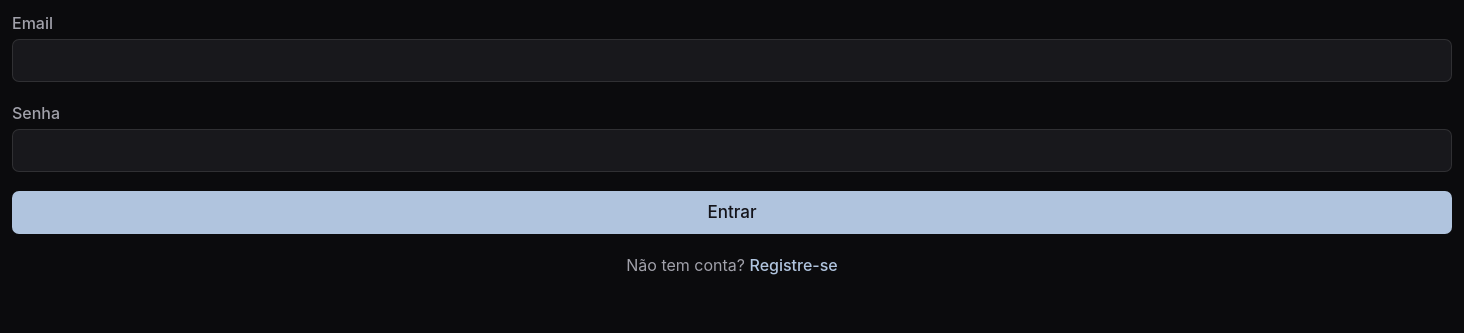
Test: LoginPage › mostra erro de credencial inválida devolvido pela API
In the field labelled "Email": (732, 61) [12, 39, 1452, 82], type "sant@example.com"
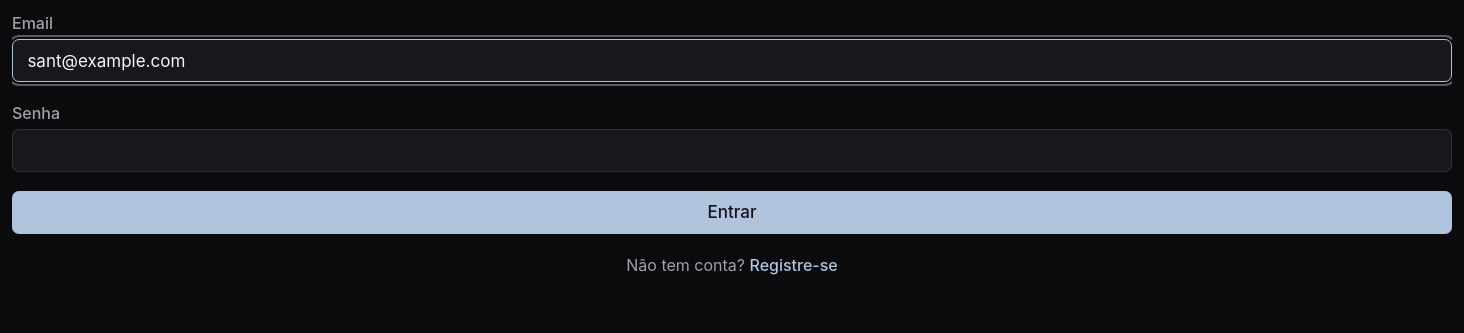
In the password field labelled "Senha": (732, 150) [12, 129, 1452, 172], type "senha-errada"
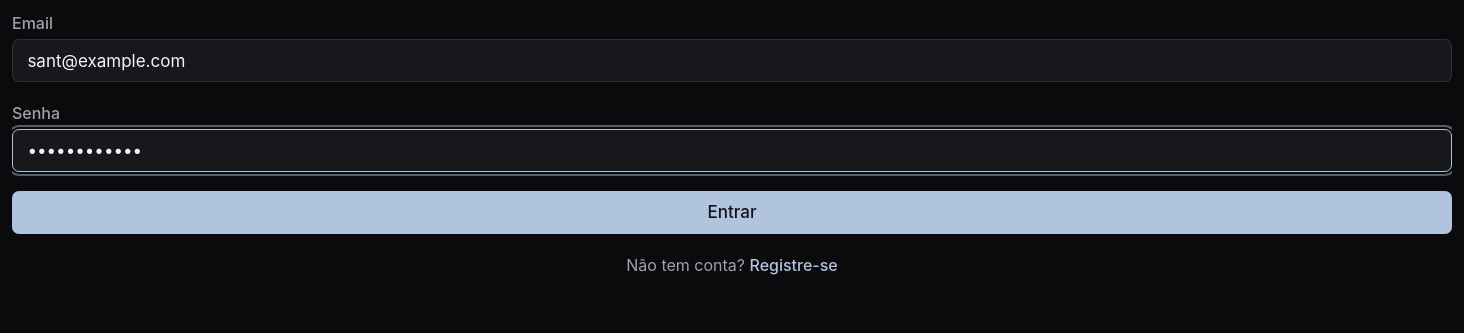
Click the button "Entrar": (732, 213) [12, 191, 1452, 234]
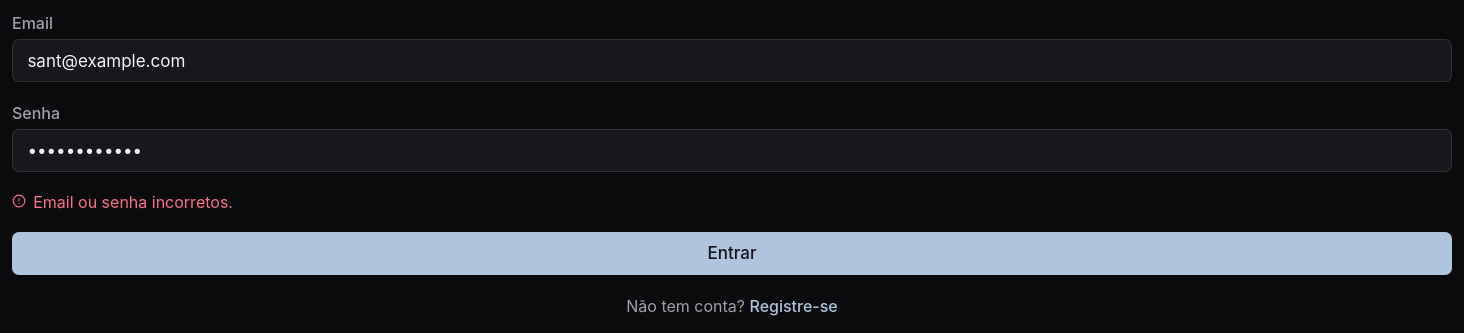
Expected: the message reads "Email ou senha incorretos.", [33, 192, 233, 212]
